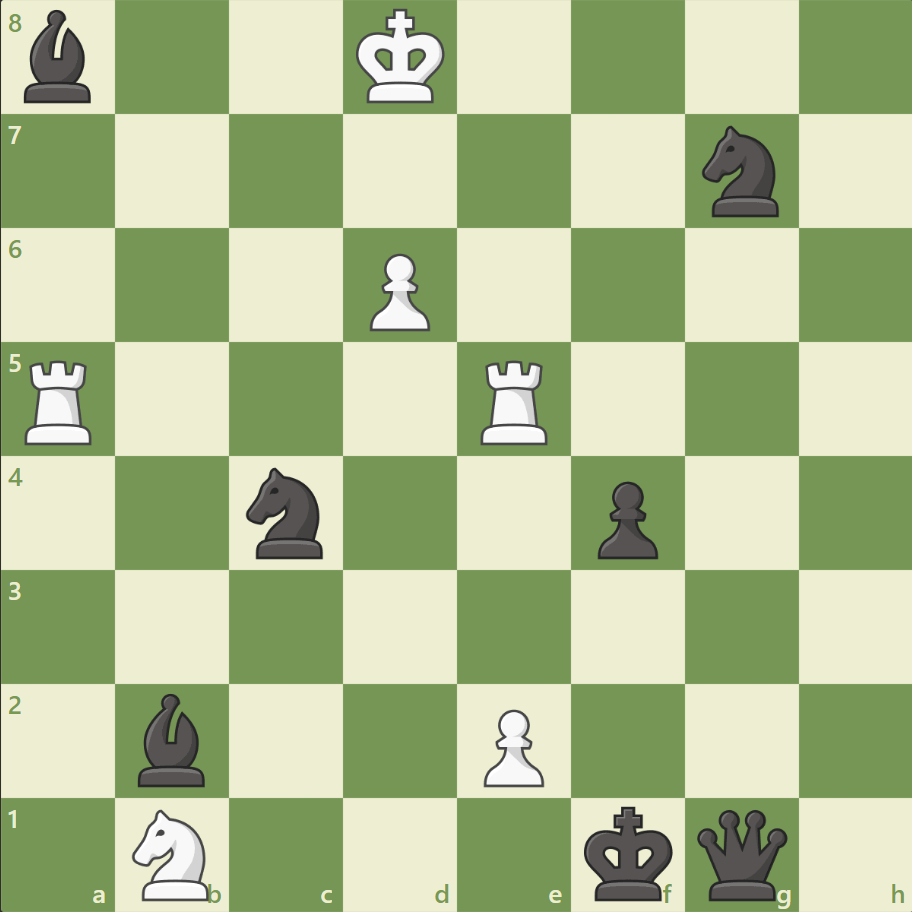K: (351, 4, 451, 112)
N: (124, 802, 222, 904)
P: (474, 700, 549, 791), (361, 246, 435, 337)
R: (19, 352, 102, 449), (473, 352, 556, 449)
b: (17, 6, 101, 109), (131, 687, 215, 790)
k: (579, 798, 679, 906)
n: (238, 461, 335, 564), (692, 121, 789, 223)
p: (588, 473, 662, 564)
q: (691, 804, 790, 903)
